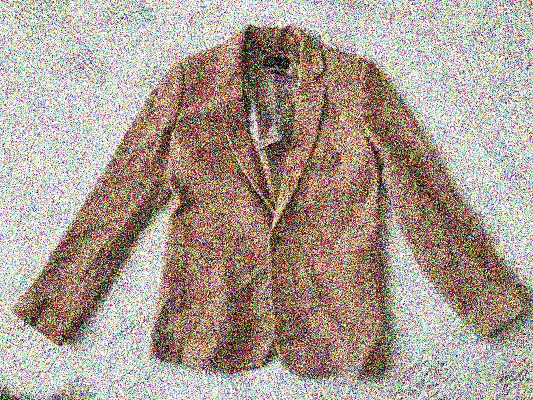Blazer: (17, 20, 520, 375)
